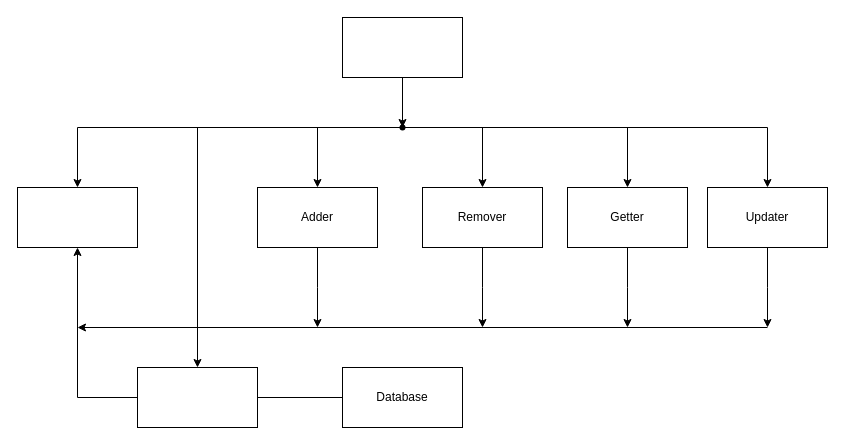
The diagram is 845 pixels wide and 445 high, and some of its shapes have lost their labels. The shapes that lost their labels are listed below. From the top down, each one's centre as x and y in pixels, then its label:
At pixel 402 47: "ClassDB (Database Controller)".
At pixel 77 217: "Bank Data".
At pixel 197 397: "Loader & Saver".
